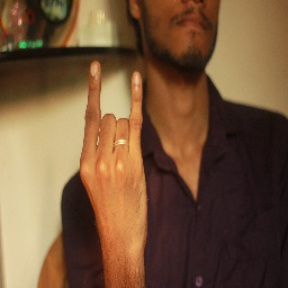V: (77, 57, 154, 243)
